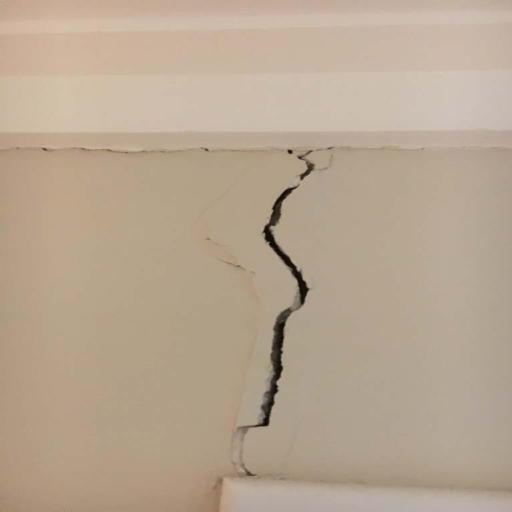spalling: (235, 155, 321, 438)
